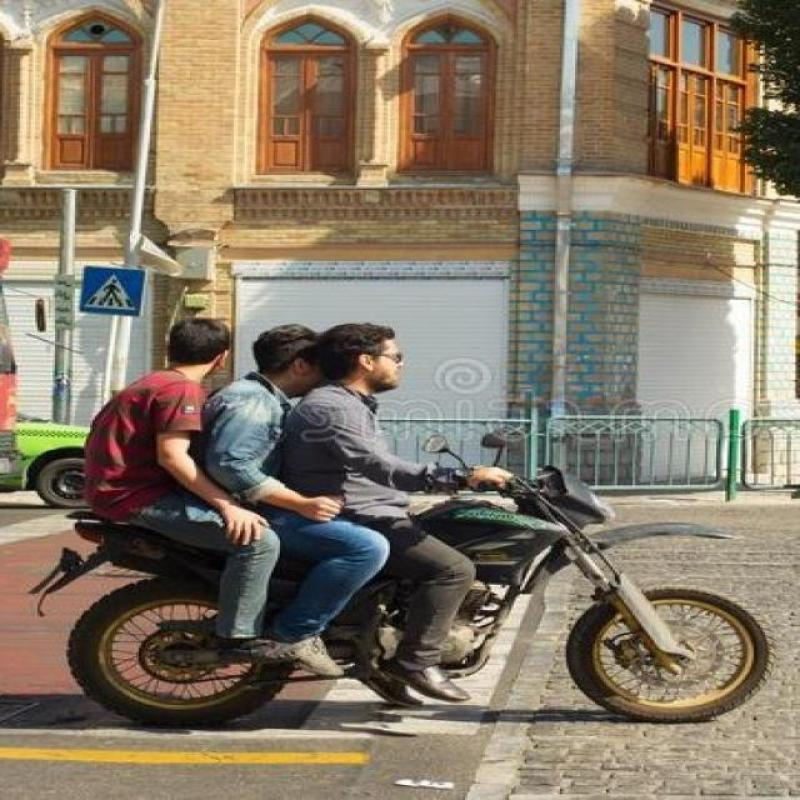nohelmet: (325, 312, 414, 393), (249, 310, 320, 398), (146, 308, 242, 372)
